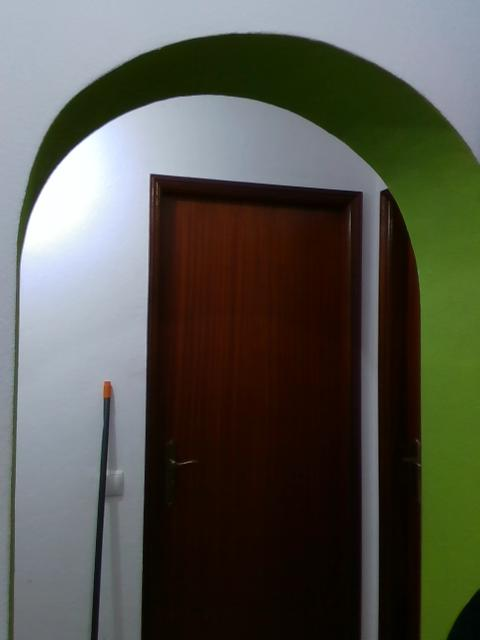door: (158, 194, 348, 640)
